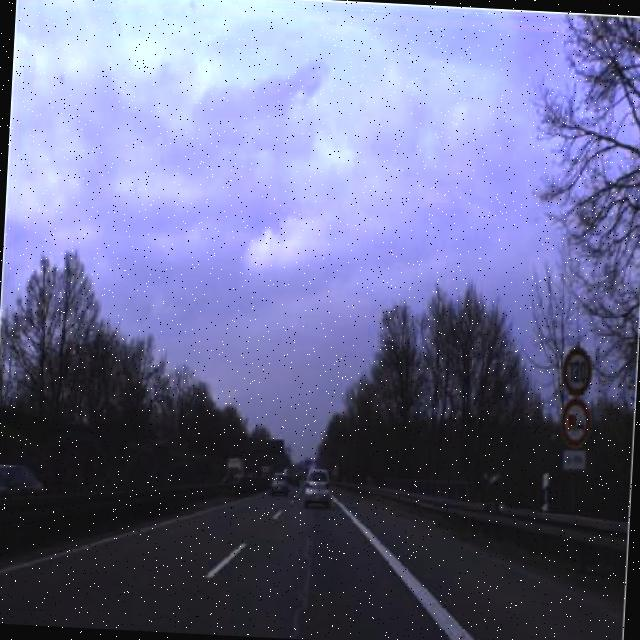Ograniczenie predkosci do 120: (559, 342, 594, 400)
Zakaz wyprzedzania: (558, 397, 592, 450)
